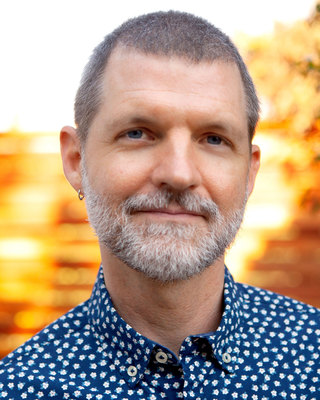bare: (78, 153, 249, 280)
